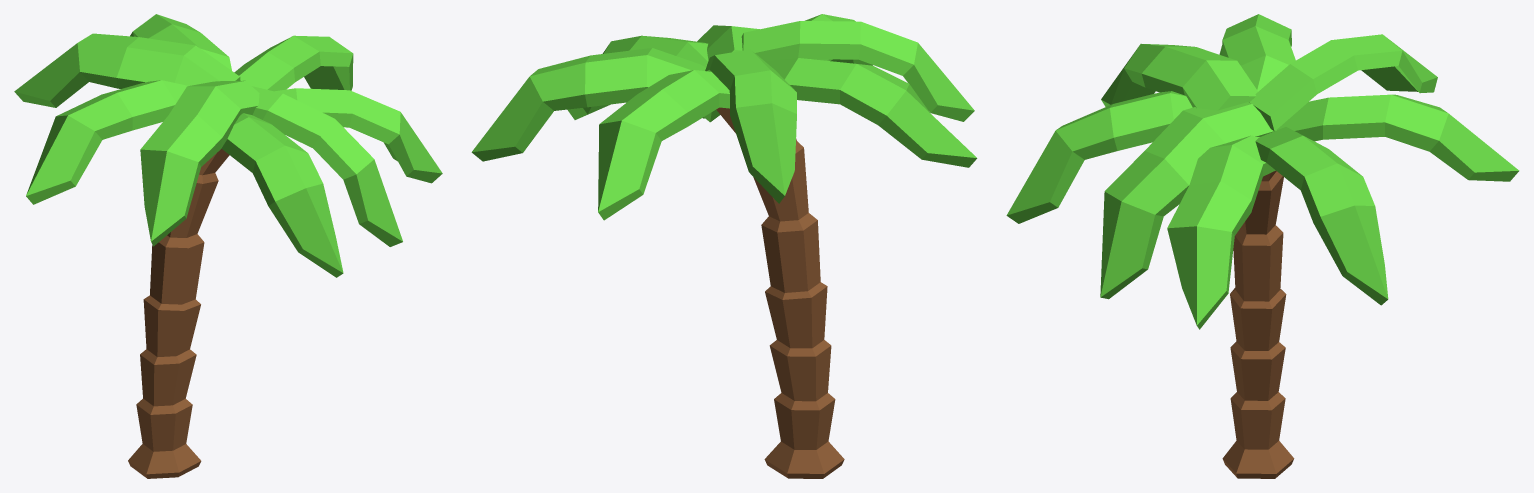
The model's file is palmtree.fbx.
3 renders of one model, left to right at view 1: azimuth 30°, elevation 25°; view 2: azimuth 150°, elevation 25°; view 3: azimuth 270°, elevation 25°, orthographic. The views are drawn at different scales.
Parts seen in each view (by area): view 1: Cube; view 2: Cube; view 3: Cube.
Part boxes in pixels (x1,y1,x2,y2): Cube: (14,14,442,478); Cube: (471,14,977,478); Cube: (1006,14,1519,478).
Bounding box in the file's own units: 2659 × 2504 × 2748.
